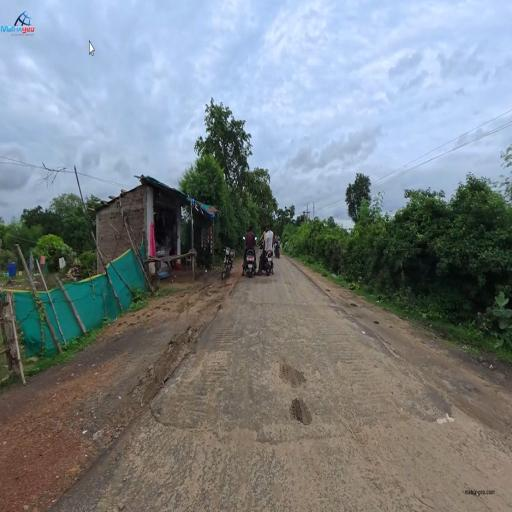longitudinal_crack: (160, 403, 404, 465)
